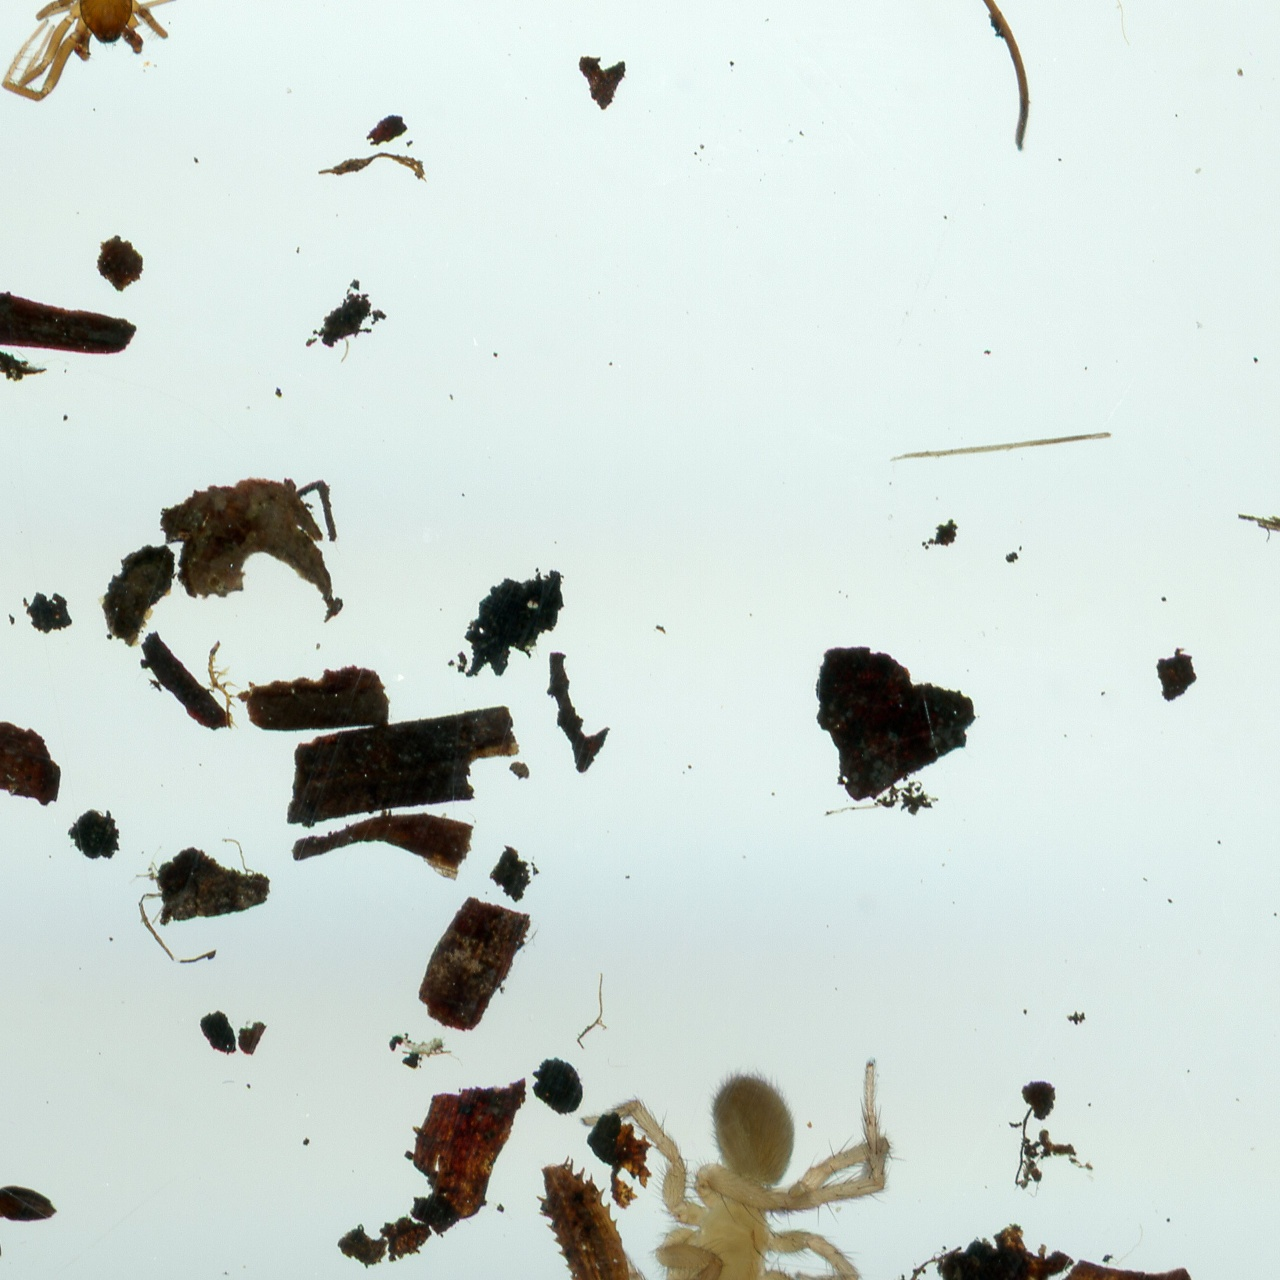arthropod: (581, 1056, 890, 1280), (0, 0, 179, 103), (0, 1128, 56, 1259)
